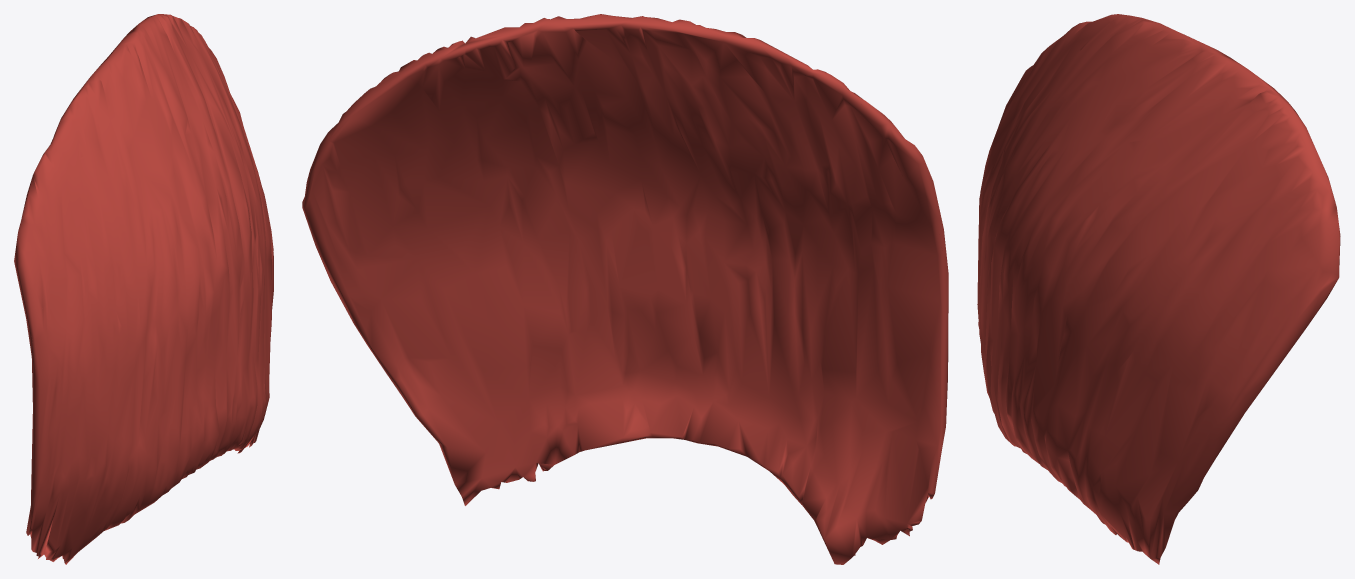
The model's file is musculos-frontalis-muscle-l.glb.
3 views of the same model, side by side, from view 1: azimuth 30°, elevation 25°; view 2: azimuth 150°, elevation 25°; view 3: azimuth 270°, elevation 25° (orthographic). The views are drawn at different scales.
Visible parts, largest first — view 1: Frontalis muscle.l; view 2: Frontalis muscle.l; view 3: Frontalis muscle.l.
Boxes of the visible parts, box(x1,y1,x2,y2) form: Frontalis muscle.l: box(14, 14, 273, 564); Frontalis muscle.l: box(302, 14, 948, 564); Frontalis muscle.l: box(977, 14, 1340, 564).
Bounding box in the file's own units: 0.0584 × 0.0701 × 0.0469.
